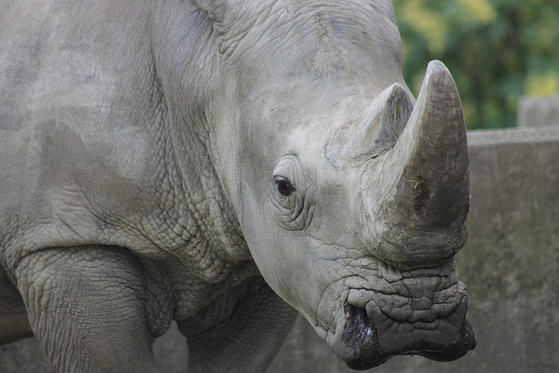Rhinoceros: (8, 2, 494, 372)
